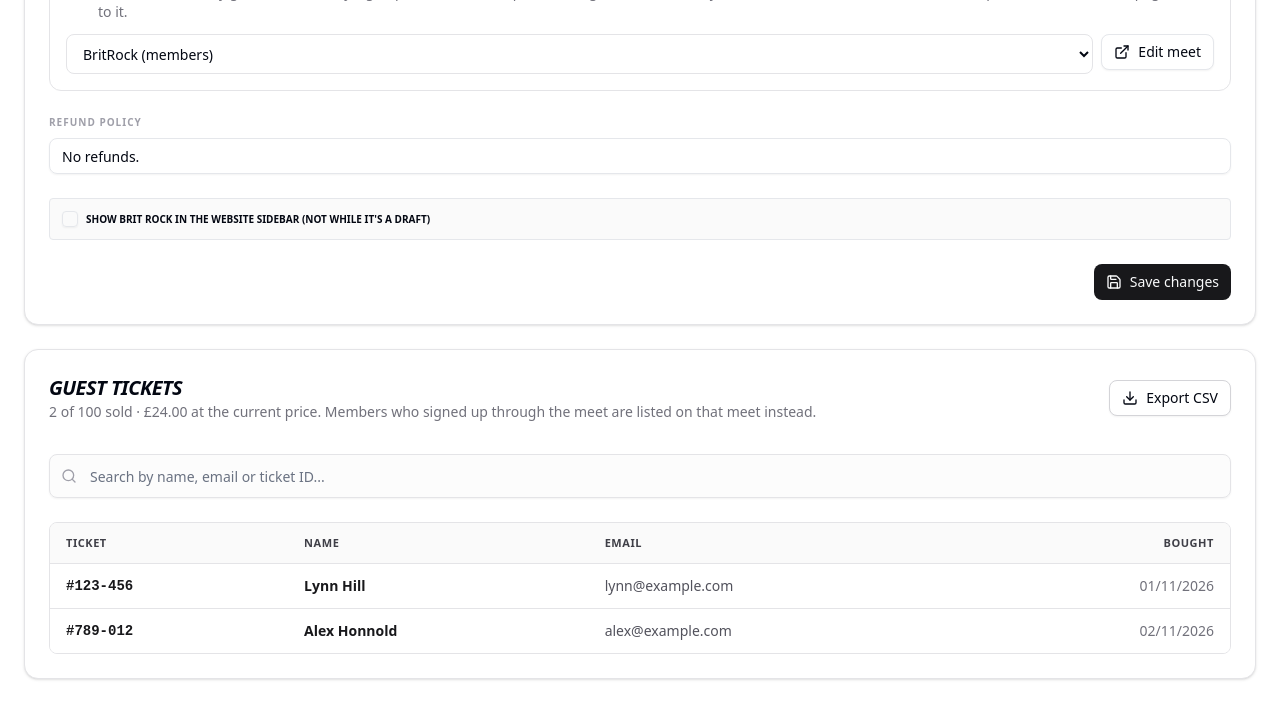
BritRock committee page — tickets › finds tickets by name, email or ticket ID
This screenshot has width=1280, height=703.
(page scrolled)
Check: the text "#123-456" is shown, box [50,563,288,608]
Type "789" into the field with placeholder "Search by name, email or ticket ID...". click: (640, 476)
box: [49,454,1231,498]
(page scrolled)
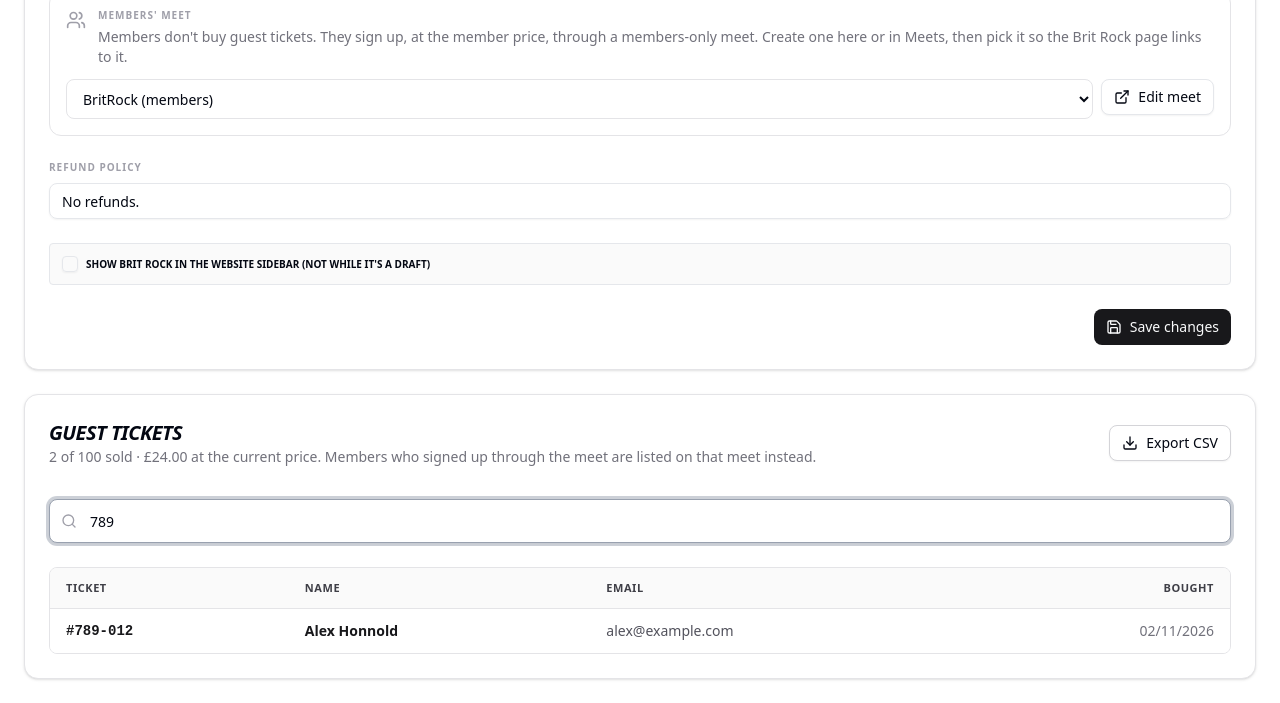
Check: the text "Alex Honnold" is shown, box [289,608,590,653]
Check: the text "Lynn Hill" is gone
Clear the field with placeholder "Search by name, email or ticket ID...". click: (640, 521)
box: [49,499,1231,543]
(page scrolled)
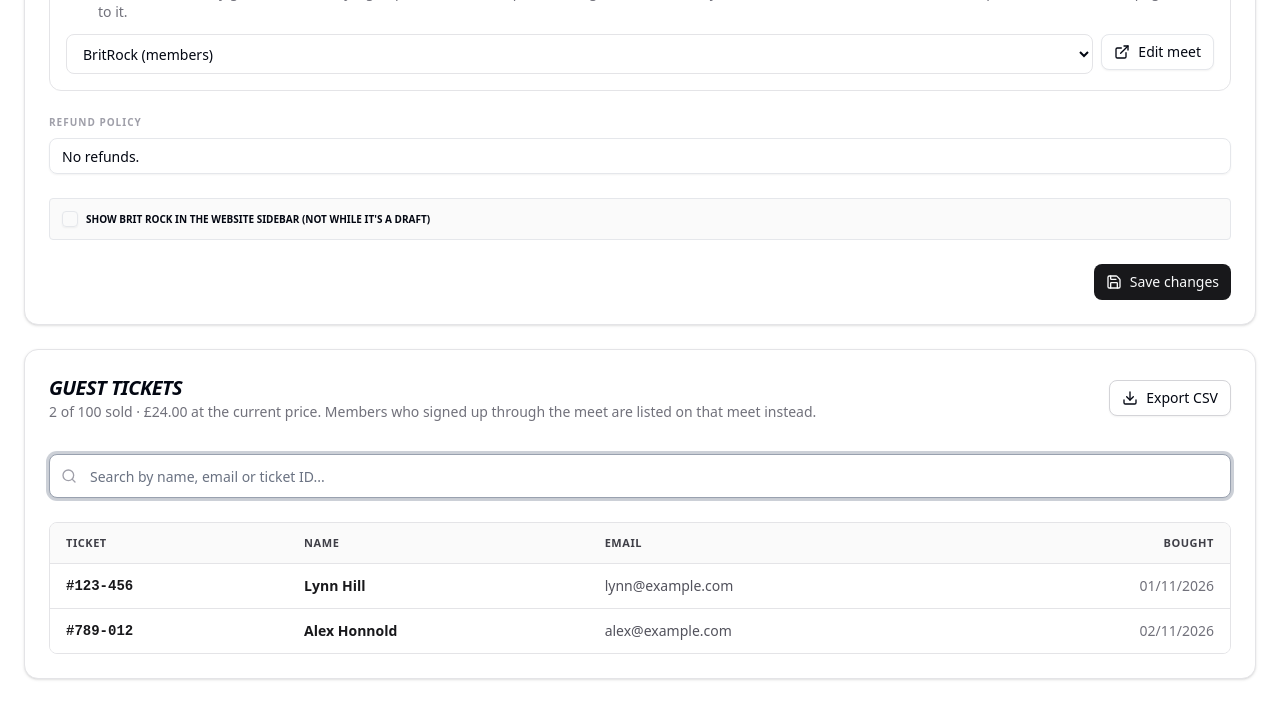
Type "LYNN@" into the field with placeholder "Search by name, email or ticket ID...". click: (640, 476)
box: [49,454,1231,498]
(page scrolled)
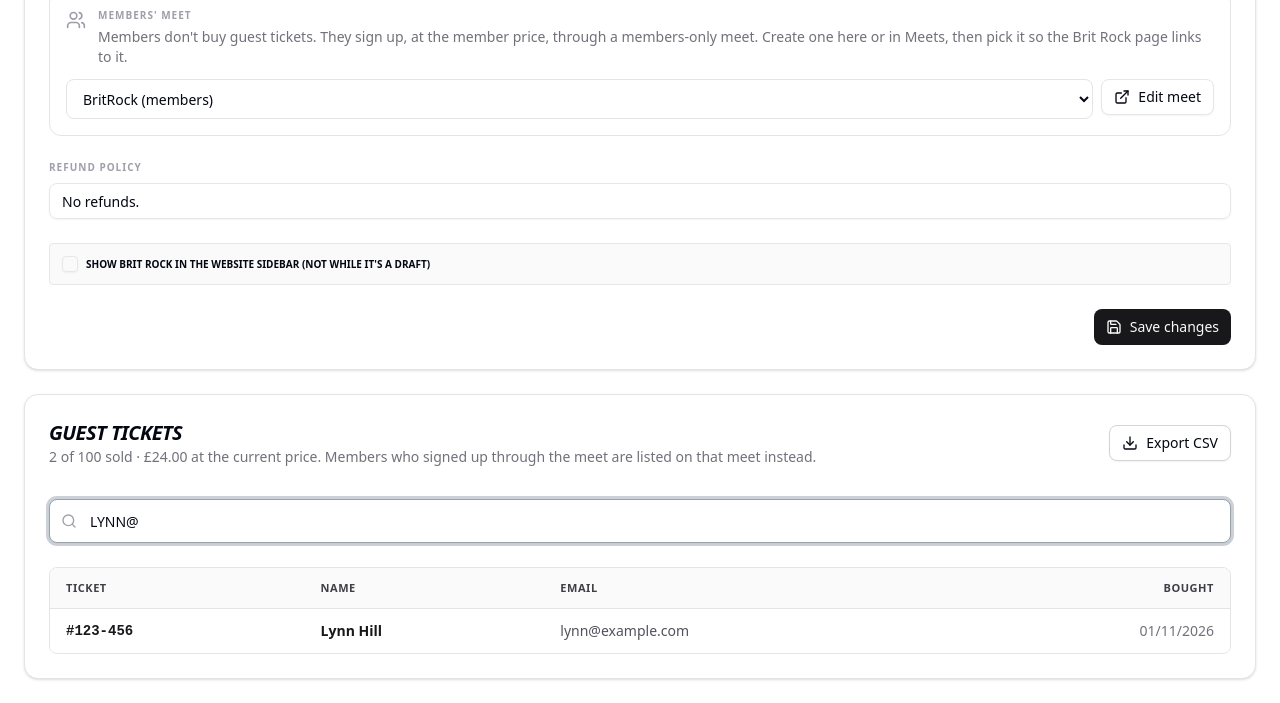
Check: the text "Lynn Hill" is shown, box [305,608,544,653]
Check: the text "Alex Honnold" is gone
